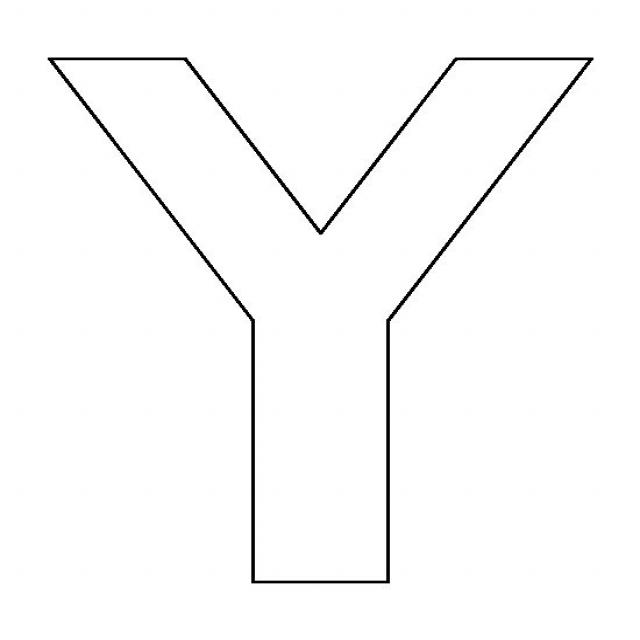Y: (27, 23, 611, 610)
